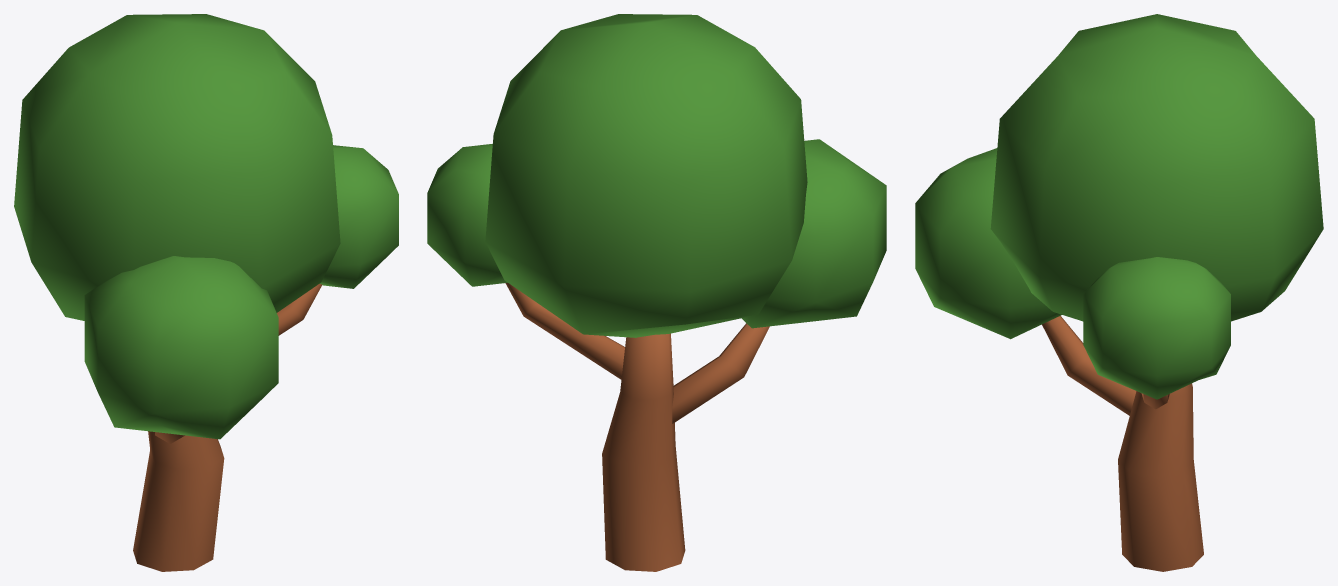
Rendered from Oak_Tree_01.fbx.
3 renders of one model, left to right at view 1: azimuth 30°, elevation 25°; view 2: azimuth 150°, elevation 25°; view 3: azimuth 270°, elevation 25°, orthographic.
Parts seen in each view (by area): view 1: Oak_Tree_01; view 2: Oak_Tree_01; view 3: Oak_Tree_01.
Boxes of the visible parts, <box> form: Oak_Tree_01: <box>14,14,398,571</box>; Oak_Tree_01: <box>427,14,886,571</box>; Oak_Tree_01: <box>915,14,1323,571</box>.
Bounding box in the file's own units: 1824 × 2551 × 1790.
